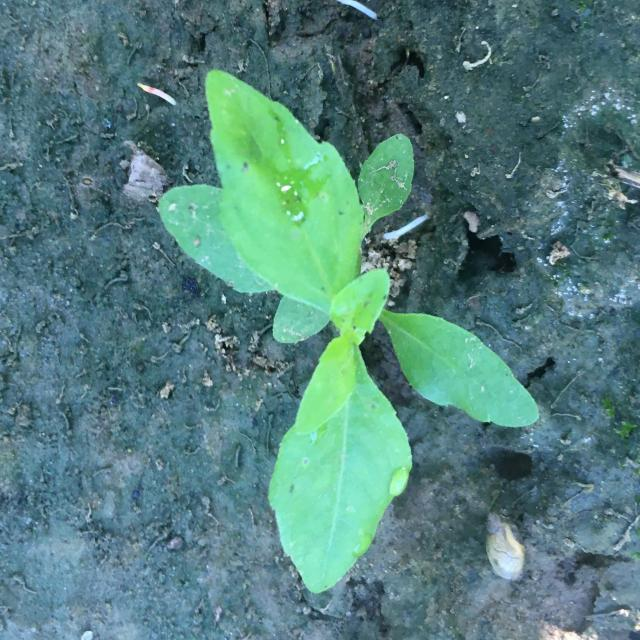Eclipta: (160, 69, 540, 595)
